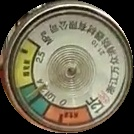green: (17, 81, 51, 118)
needle: (26, 81, 51, 101)
red: (43, 104, 95, 127)
yellow: (13, 38, 41, 89)
